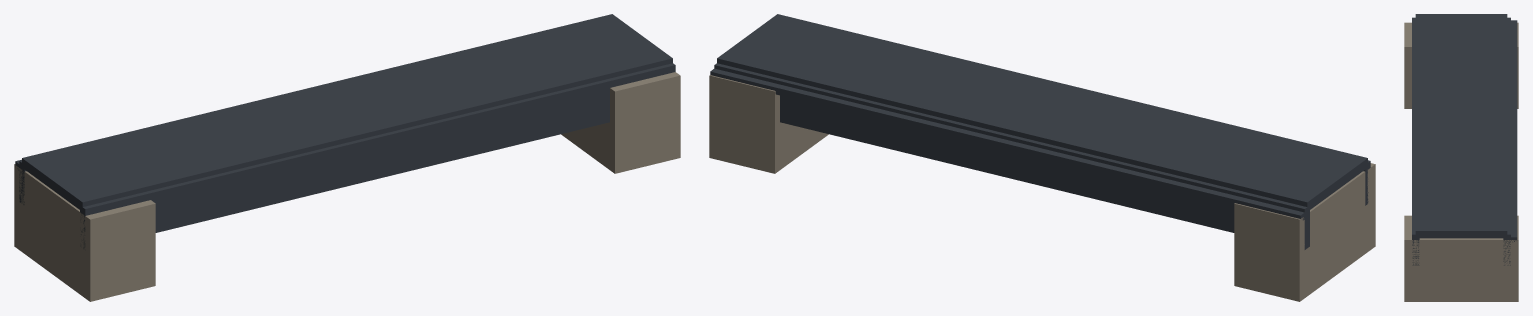
The model's file is c04-bridge-rail-girder.glb.
3 views of the same model, side by side, from view 1: azimuth 30°, elevation 25°; view 2: azimuth 150°, elevation 25°; view 3: azimuth 270°, elevation 25° (orthographic). The views are drawn at different scales.
Parts seen in each view (by area): view 1: part4, part2, part0, part1; view 2: part4, part3, part0, part1, part5; view 3: part4, part1, part5, part2, part3, part0.
Part boxes in pixels (x1,y1,x2,y2): part4: [22, 14, 672, 209]; part2: [80, 63, 675, 248]; part0: [14, 164, 155, 301]; part1: [561, 72, 680, 173]; part4: [717, 14, 1367, 209]; part3: [714, 63, 1309, 249]; part0: [1234, 163, 1375, 301]; part1: [709, 75, 828, 173]; part5: [710, 68, 1304, 220]; part4: [1415, 14, 1507, 238]; part1: [1404, 215, 1518, 301]; part5: [1511, 20, 1517, 242]; part2: [1412, 17, 1419, 265]; part3: [1503, 17, 1510, 265]; part0: [1404, 22, 1518, 108].
Bounding box in the file's own units: 45000 × 6850 × 10000.
